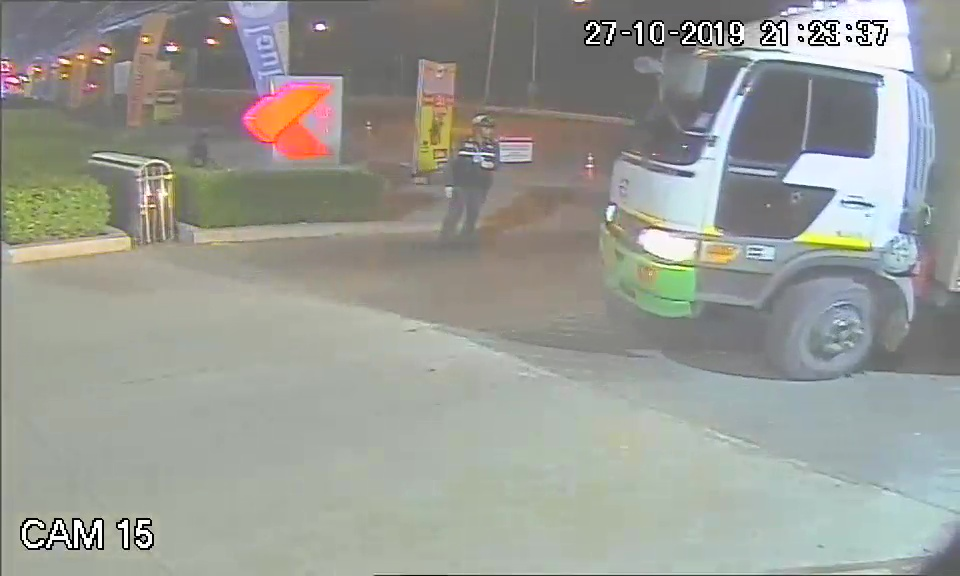truck: (603, 14, 935, 401)
